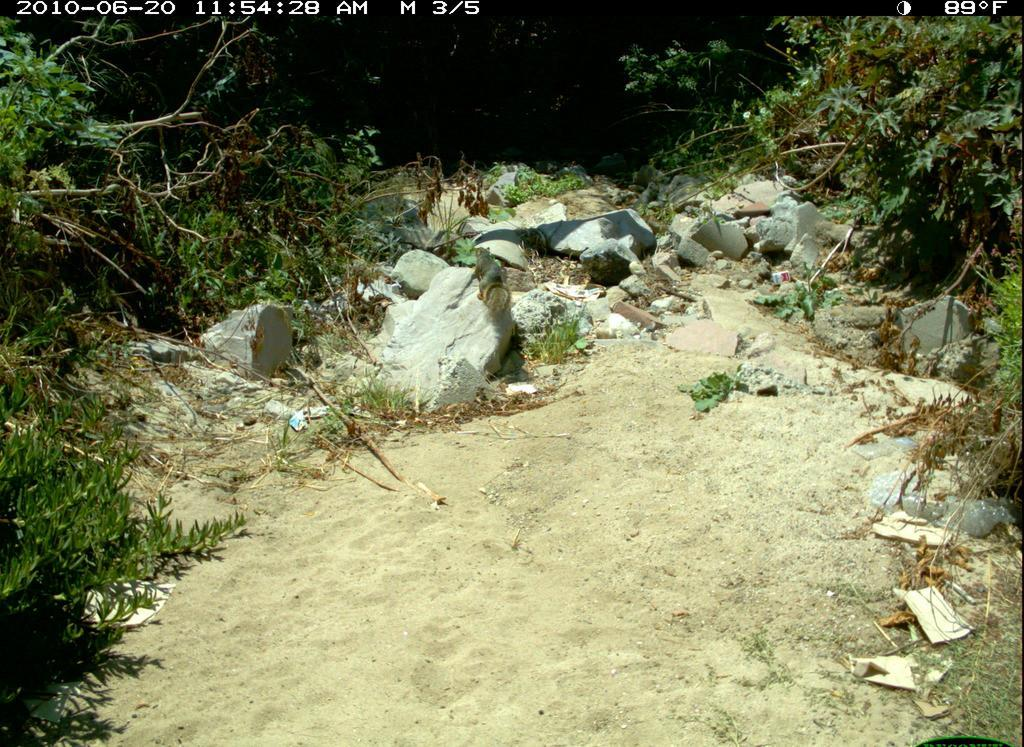squirrel: (472, 245, 516, 318)
